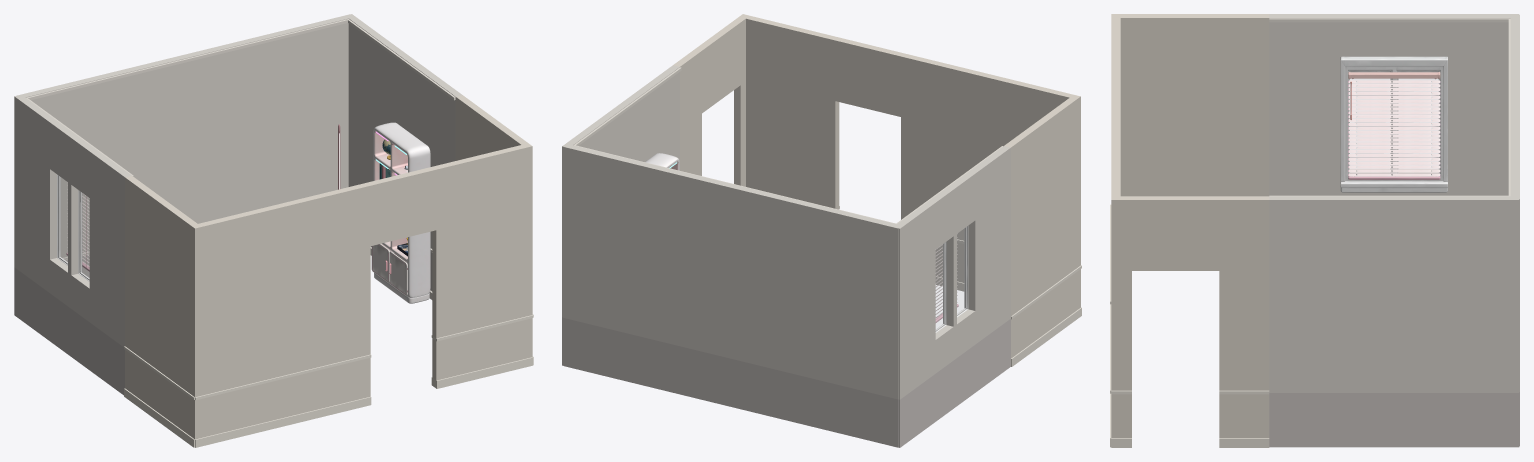
The picture shows the model from 3 angles, left to right: view 1: azimuth 30°, elevation 25°; view 2: azimuth 150°, elevation 25°; view 3: azimuth 270°, elevation 25°; orthographic projection. The views are drawn at different scales.
Parts seen in each view (by area): view 1: architecture.backWall.v6.upper, architecture.southWall.west.upper, architecture.leftWall.v6.upper, architecture.southWall.east.upper, architecture.leftWall.extension.upper, architecture.rightWall.v6.upper, architecture.southWall.west.lower, architecture.leftWall.v6.lower, architecture.southWall.lintel, bookshelf.carcass, architecture.southWall.east.lower, architecture.leftWall.extension.lower (+13 smaller); view 2: architecture.backWall.v6.upper, architecture.leftWall.v6.upper, architecture.backWall.v6.lower, architecture.southWall.east.upper, architecture.southWall.west.upper, architecture.leftWall.extension.upper, architecture.rightWall.v6.upper, architecture.leftWall.v6.lower, architecture.southWall.lintel, architecture.rightWall.doorLintel, architecture.rightWall.extension.upper, architecture.leftWall.extension.lower (+7 smaller); view 3: architecture.rightWall.v6.upper, architecture.leftWall.v6.upper, architecture.leftWall.extension.upper, architecture.rightWall.v6.lower, architecture.rightWall.extension.upper, architecture.rightWall.doorLintel, window.frame, architecture.rightWall.southPost.upper, architecture.rightWall.extension.lower, architecture.backWall.v6.upper, architecture.southWall.east.upper, architecture.leftWall.v6.topTrim (+9 smaller).
Part boxes in pixels (box(x1,y1,x2,y2)): architecture.backWall.v6.upper: box(16, 14, 353, 257); architecture.southWall.west.upper: box(191, 182, 370, 396); architecture.leftWall.v6.upper: box(14, 94, 131, 346); architecture.southWall.east.upper: box(432, 143, 532, 338); architecture.leftWall.extension.upper: box(125, 176, 201, 397); architecture.rightWall.v6.upper: box(346, 14, 461, 248); architecture.southWall.west.lower: box(191, 357, 370, 438); architecture.leftWall.v6.lower: box(14, 267, 124, 395); architecture.southWall.lintel: box(367, 167, 436, 245); bookshelf.carcass: box(373, 122, 430, 303); architecture.southWall.east.lower: box(432, 318, 532, 380); architecture.leftWall.extension.lower: box(125, 350, 201, 439); architecture.backWall.v6.upper: box(563, 144, 901, 399); architecture.leftWall.v6.upper: box(894, 146, 1010, 399); architecture.backWall.v6.lower: box(563, 318, 898, 447); architecture.southWall.east.upper: box(739, 14, 839, 209); architecture.southWall.west.upper: box(901, 53, 1080, 267); architecture.leftWall.extension.upper: box(1004, 97, 1076, 316); architecture.rightWall.v6.upper: box(562, 65, 679, 317); architecture.leftWall.v6.lower: box(898, 319, 1010, 447); architecture.southWall.lintel: box(835, 37, 904, 116); architecture.rightWall.doorLintel: box(695, 20, 740, 113); architecture.rightWall.extension.upper: box(673, 49, 701, 175); architecture.leftWall.extension.lower: box(1011, 272, 1076, 358); architecture.rightWall.v6.upper: box(1269, 196, 1519, 392); architecture.leftWall.v6.upper: box(1269, 14, 1519, 195); architecture.leftWall.extension.upper: box(1111, 14, 1269, 196); architecture.rightWall.v6.lower: box(1269, 393, 1519, 447); architecture.rightWall.extension.upper: box(1219, 196, 1269, 390); architecture.rightWall.doorLintel: box(1132, 196, 1219, 270); window.frame: box(1340, 56, 1447, 192); architecture.rightWall.southPost.upper: box(1111, 196, 1131, 390); architecture.rightWall.extension.lower: box(1219, 394, 1269, 438); architecture.backWall.v6.upper: box(1510, 15, 1519, 391); architecture.southWall.east.upper: box(1111, 147, 1120, 390); architecture.leftWall.v6.topTrim: box(1269, 18, 1508, 22).
Bounding box in the file's own units: 4.87 × 3 × 4.5.
86 materials, 34 textured.
